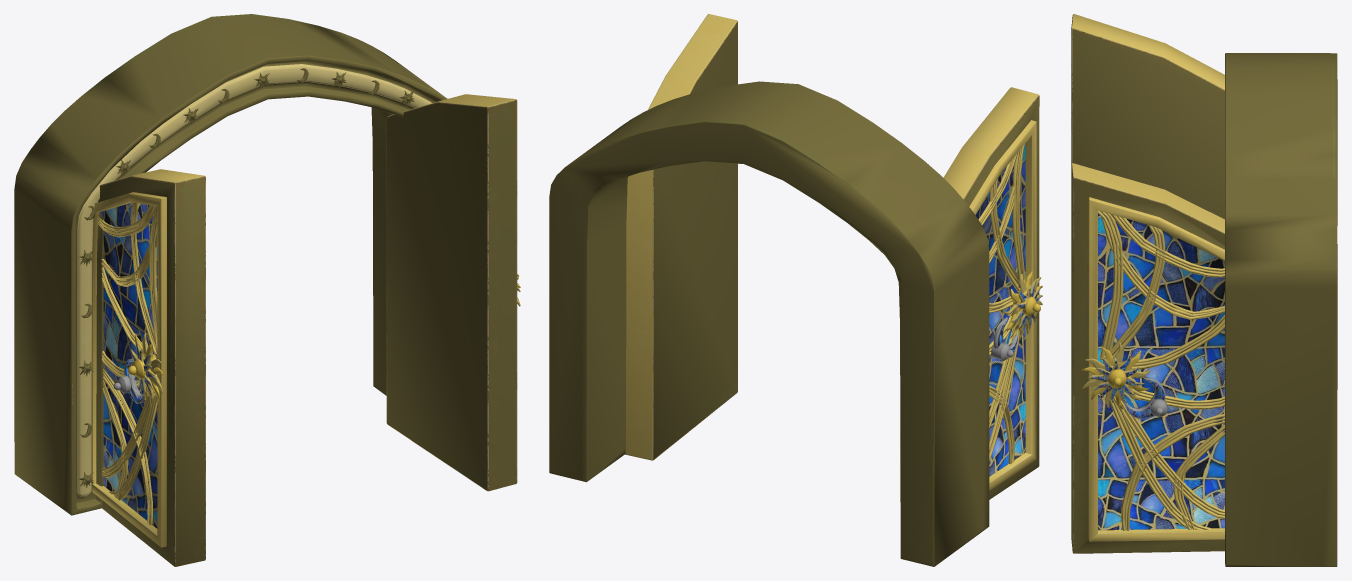
The model's file is doorOpen_lowPoly.glb.
The picture shows the model from 3 angles, left to right: view 1: azimuth 30°, elevation 25°; view 2: azimuth 150°, elevation 25°; view 3: azimuth 270°, elevation 25°; orthographic projection. The views are drawn at different scales.
Parts seen in each view (by area): view 1: polySurface15.005; view 2: polySurface15.005; view 3: polySurface15.005.
Boxes of the visible parts, x1=… form: polySurface15.005: x1=14, y1=14, x2=520, y2=566; polySurface15.005: x1=549, y1=14, x2=1042, y2=566; polySurface15.005: x1=1071, y1=14, x2=1337, y2=566.
Bounding box in the file's own units: 0.2662 × 0.2623 × 0.1572.
5 materials, 5 textured.
